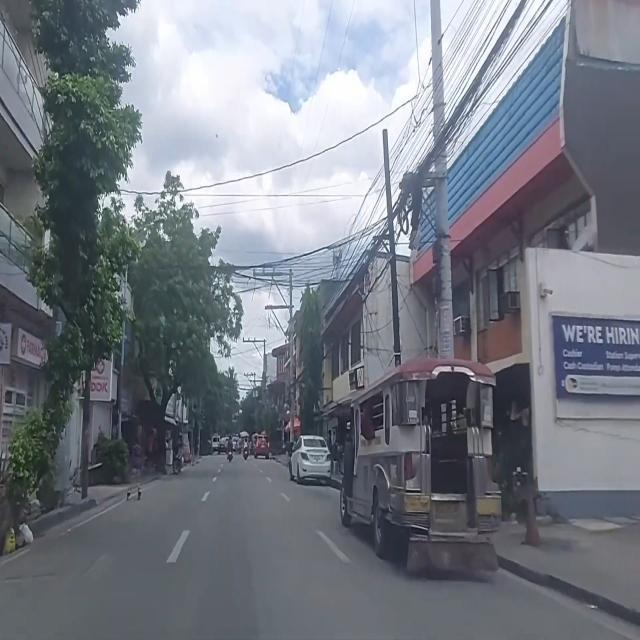car: (290, 435, 330, 483), (253, 434, 270, 458)
jeepney: (336, 358, 500, 570)
motorcycle: (226, 436, 234, 462), (243, 438, 249, 460)
